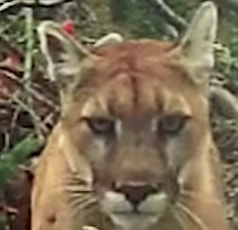Mountain Lion: (20, 6, 234, 227)
